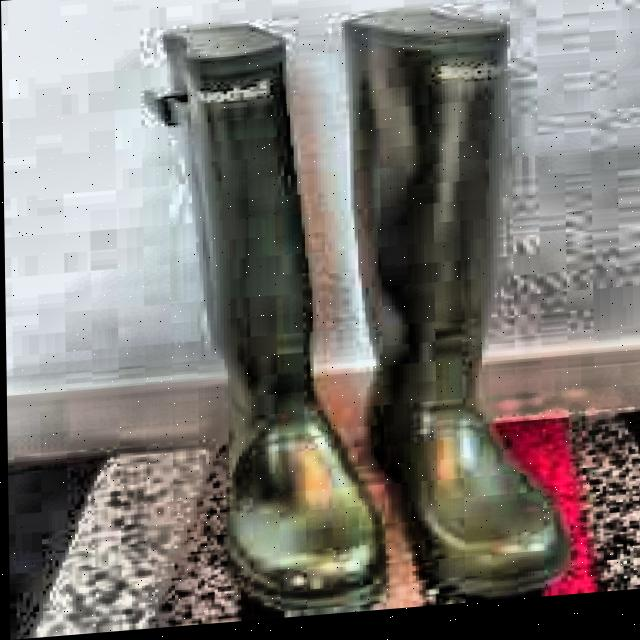shoes: (75, 0, 608, 626)
